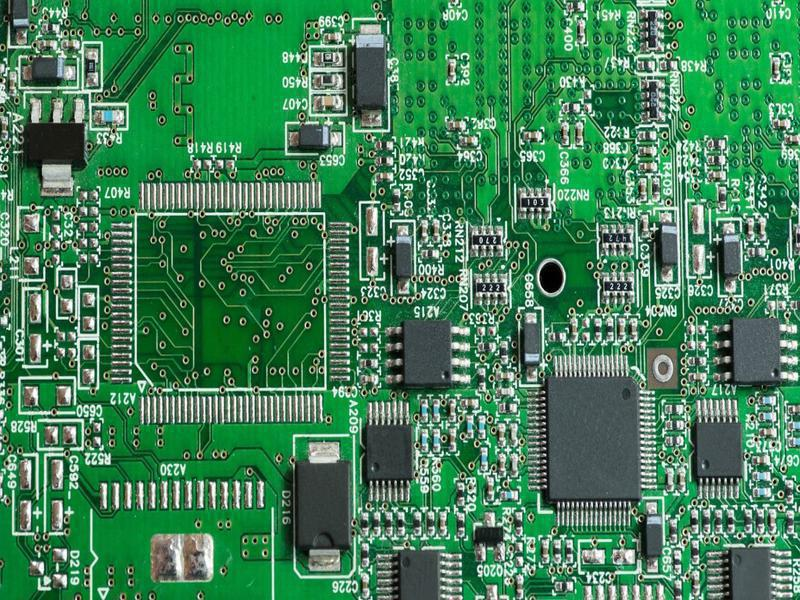SMD capacitor: (521, 128, 541, 142), (560, 122, 571, 145)
